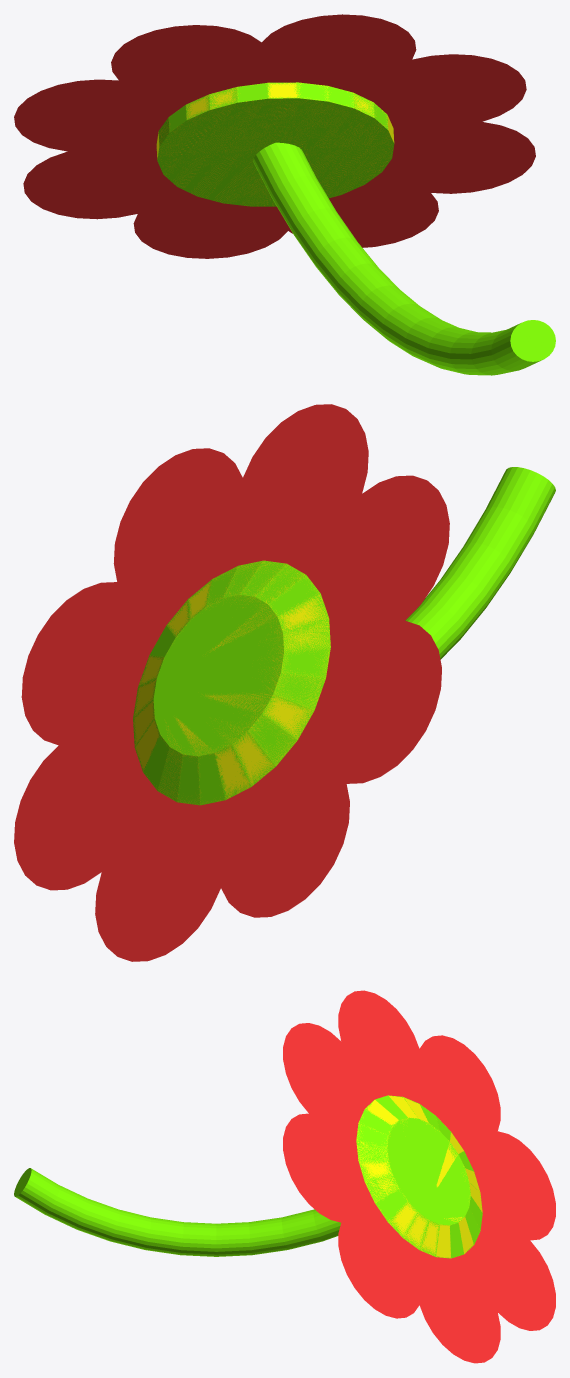
File: Vegetation_Flower_Daisy_01.fbx
3 renders of one model, top to bottom at view 1: azimuth 30°, elevation 25°; view 2: azimuth 150°, elevation 25°; view 3: azimuth 270°, elevation 25°, orthographic. The views are drawn at different scales.
Parts seen in each view (by area): view 1: Vegetation_Flower_Daisy_01; view 2: Vegetation_Flower_Daisy_01; view 3: Vegetation_Flower_Daisy_01.
Part boxes in pixels (<box>): Vegetation_Flower_Daisy_01: <box>14,14,555,375</box>; Vegetation_Flower_Daisy_01: <box>14,404,555,961</box>; Vegetation_Flower_Daisy_01: <box>14,990,555,1363</box>.
Bounding box in the file's own units: 250 × 205 × 354.
